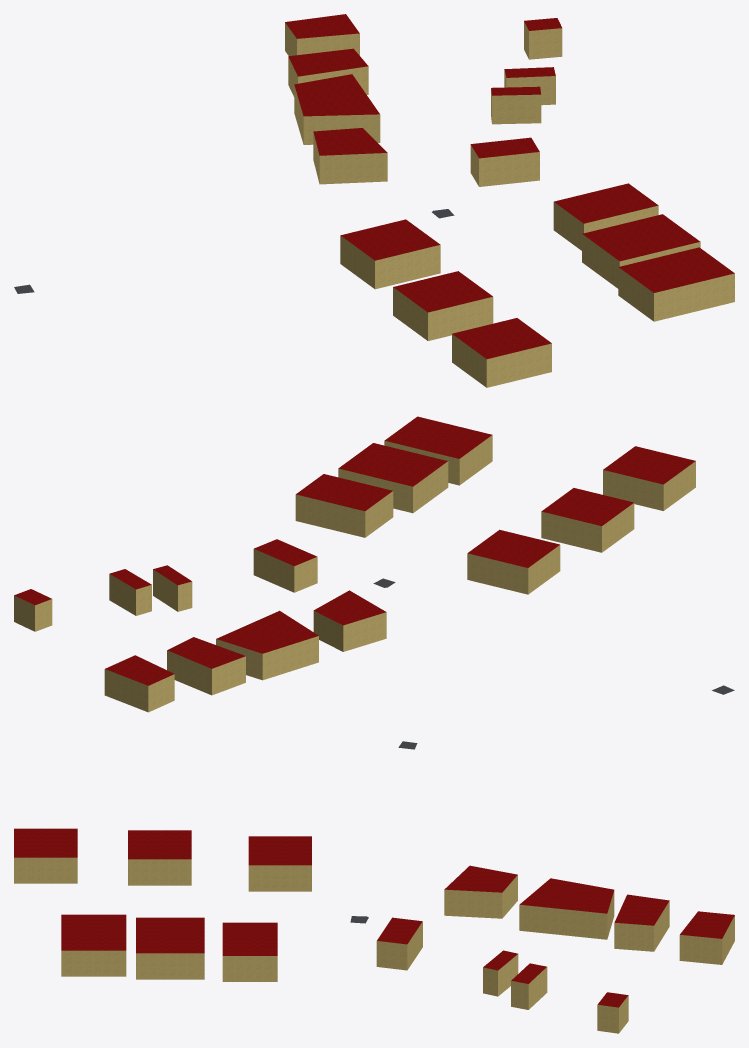
File: district_-3_1.glb
The picture shows the model from 3 angles, top to bottom: view 1: azimuth 30°, elevation 25°; view 2: azimuth 150°, elevation 25°; view 3: azimuth 270°, elevation 25°; orthographic projection. The views are drawn at different scales.
Visible parts, largest first — view 1: Building w44036200, Building w44036234, Building w44036194, Building w44036213, Building w44036215, Building w624687492, Building w44036225, Building w624687490, Building w103103556, Building w624687496, Building w624687494, Building w103103534 (+2 smaller); view 2: Building w44036215, Building w44036225, Building w44036213, Building w44036234, Building w624687492, Building w44036194, Building w44036200, Building w624687494, Building w624687490, Building w624687496, Building w103103556, Building w103103536 (+2 smaller); view 3: Building w624687492, Building w44036215, Building w44036200, Building w44036213, Building w44036194, Building w44036234, Building w44036225, Building w624687490, Building w624687494, Building w624687496, Building w103103556, Building w103103536 (+2 smaller).
Part boxes in pixels (bbox=[...]): Building w44036200: bbox=[618, 247, 734, 321]; Building w44036234: bbox=[340, 219, 440, 289]; Building w44036194: bbox=[452, 318, 551, 387]; Building w44036213: bbox=[393, 271, 493, 340]; Building w44036215: bbox=[582, 214, 700, 288]; Building w624687492: bbox=[294, 74, 380, 144]; Building w44036225: bbox=[553, 183, 658, 250]; Building w624687490: bbox=[313, 128, 387, 184]; Building w103103556: bbox=[470, 137, 539, 186]; Building w624687496: bbox=[285, 14, 359, 55]; Building w624687494: bbox=[288, 48, 368, 96]; Building w103103534: bbox=[491, 86, 541, 124]; Building w44036215: bbox=[338, 443, 448, 513]; Building w44036225: bbox=[295, 474, 393, 537]; Building w44036213: bbox=[541, 488, 634, 552]; Building w44036234: bbox=[467, 529, 560, 594]; Building w624687492: bbox=[216, 610, 318, 680]; Building w44036194: bbox=[603, 446, 695, 510]; Building w44036200: bbox=[384, 416, 492, 485]; Building w624687494: bbox=[167, 637, 245, 695]; Building w624687490: bbox=[313, 590, 386, 651]; Building w624687496: bbox=[104, 655, 174, 712]; Building w103103556: bbox=[253, 539, 317, 592]; Building w103103536: bbox=[109, 569, 151, 615]; Building w624687492: bbox=[519, 878, 614, 939]; Building w44036215: bbox=[136, 917, 204, 979]; Building w44036200: bbox=[61, 914, 126, 976]; Building w44036213: bbox=[128, 830, 191, 885]; Building w44036194: bbox=[14, 828, 77, 883]; Building w44036234: bbox=[248, 836, 311, 891]; Building w44036225: bbox=[222, 922, 277, 981]; Building w624687490: bbox=[444, 865, 517, 918]; Building w624687494: bbox=[614, 894, 669, 951]; Building w624687496: bbox=[679, 911, 734, 964]; Building w103103556: bbox=[376, 917, 422, 970]; Building w103103536: bbox=[511, 963, 547, 1009].
Size of the model in its own units: 180 by 7.5 by 188.
Materials: 3 (3 with a texture image).
